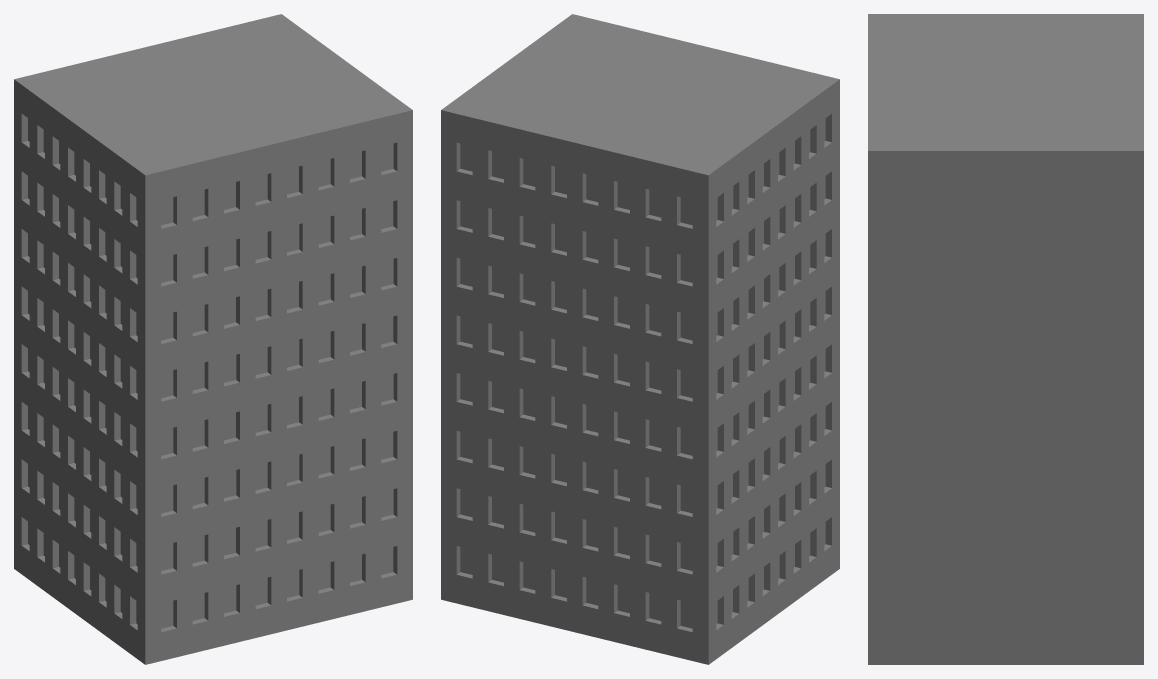
Rendered from building02.obj.
The picture shows the model from 3 angles, left to right: view 1: azimuth 30°, elevation 25°; view 2: azimuth 150°, elevation 25°; view 3: azimuth 270°, elevation 25°; orthographic projection. The views are drawn at different scales.
Parts seen in each view (by area): view 1: Cube; view 2: Cube; view 3: Cube.
Boxes of the visible parts, box(x1,y1,x2,y2) form: Cube: box(14, 14, 412, 664); Cube: box(441, 14, 839, 664); Cube: box(868, 14, 1143, 664).
Bounding box in the file's own units: 4.25 × 7.43 × 3.61.
1 material, 1 textured.
